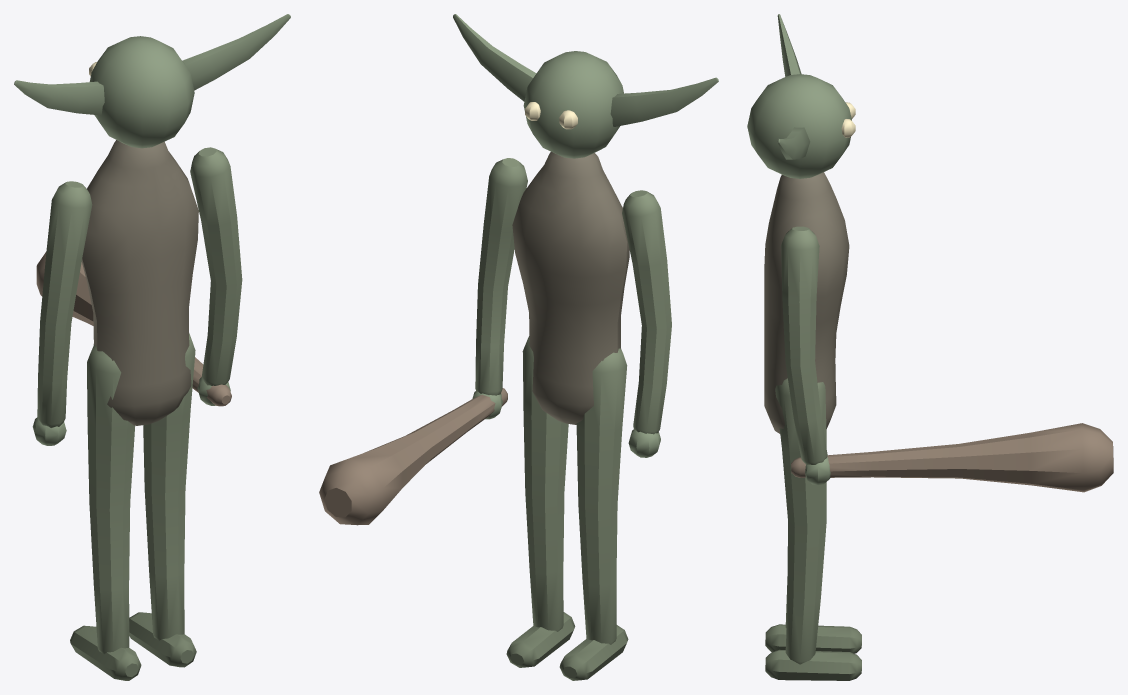
File: mossgoblin.gltf
3 views of the same model, side by side, from view 1: azimuth 30°, elevation 25°; view 2: azimuth 150°, elevation 25°; view 3: azimuth 270°, elevation 25° (orthographic). The views are drawn at different scales.
Visible parts, largest first — view 1: Body, SwingA, SwingB, ArmR, ArmL; view 2: Body, ArmR, SwingA, SwingB, ArmL; view 3: Body, ArmR, SwingB, SwingA.
Part boxes in pixels (x1,y1,x2,y2): Body: [14, 14, 290, 425]; SwingA: [70, 344, 141, 680]; SwingB: [129, 333, 196, 667]; ArmR: [36, 147, 242, 406]; ArmL: [32, 181, 92, 445]; Body: [453, 14, 718, 424]; ArmR: [319, 158, 527, 525]; SwingA: [559, 348, 628, 680]; SwingB: [506, 336, 575, 667]; ArmL: [622, 190, 671, 457]; Body: [747, 14, 855, 433]; ArmR: [781, 226, 1113, 492]; SwingB: [765, 378, 861, 680]; SwingA: [765, 430, 861, 653].
Size of the model in its own units: 0.8505 by 1.84 by 1.04.
